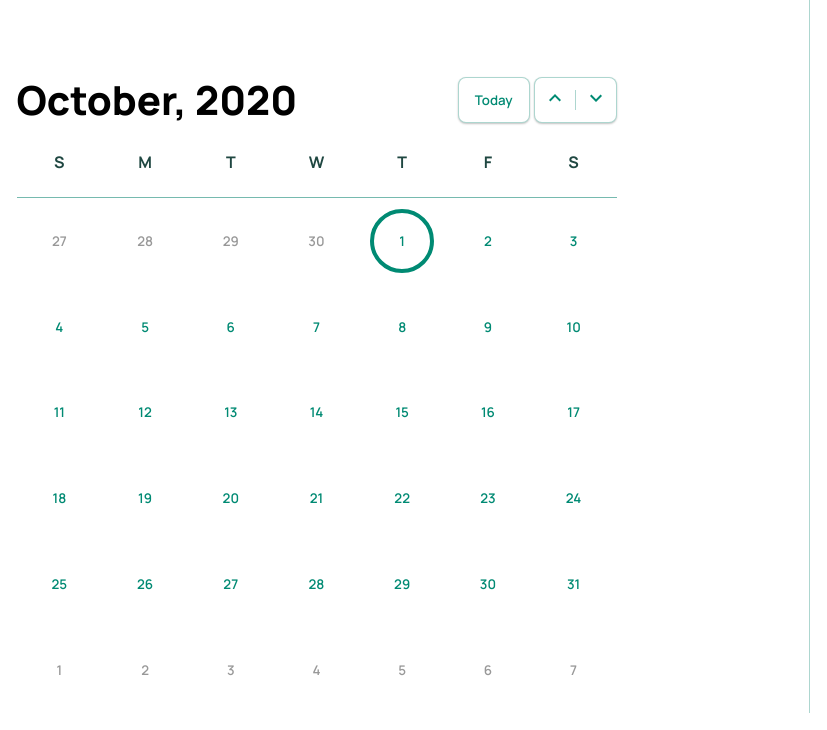
Test case: should be able to go to next month
Click the 2nd button "Next Month".
click(596, 100)  # box x1=576 y1=78 x2=616 y2=122
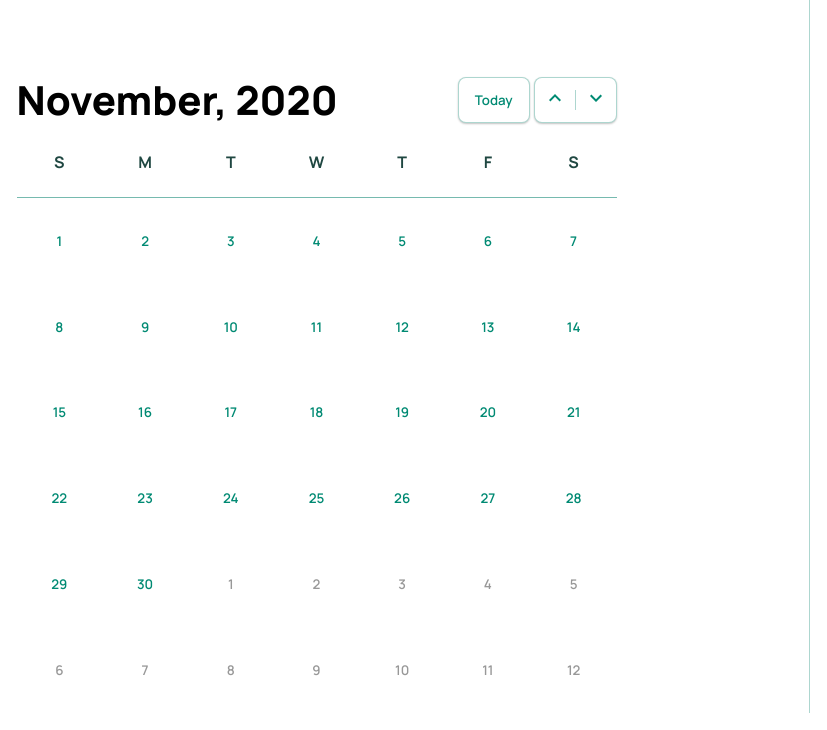
Expected: the heading "November, 2020" is shown, x1=16 y1=72 x2=338 y2=127
